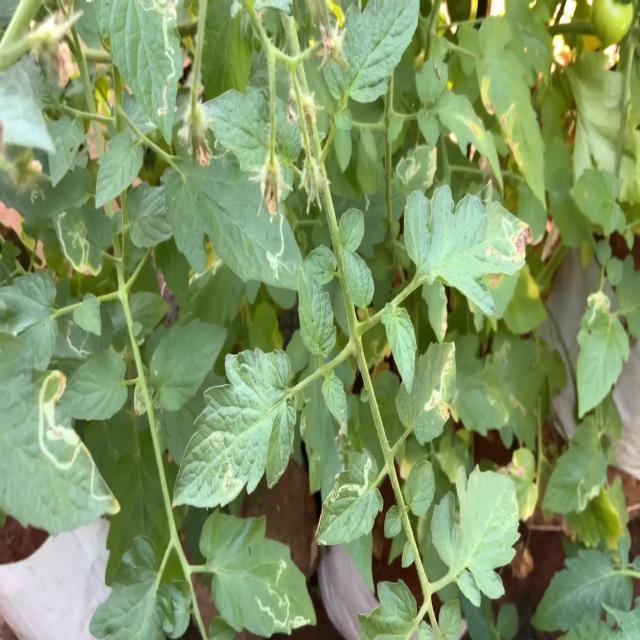Tomato target spot leaf: (0, 329, 121, 538), (164, 129, 304, 292), (172, 346, 296, 507), (404, 176, 532, 319), (202, 508, 318, 640), (91, 0, 183, 149), (449, 327, 548, 435), (574, 290, 630, 418), (315, 446, 383, 544), (396, 337, 456, 448), (542, 418, 606, 514), (52, 201, 114, 278), (396, 144, 438, 196), (56, 314, 101, 360), (421, 277, 449, 344)
